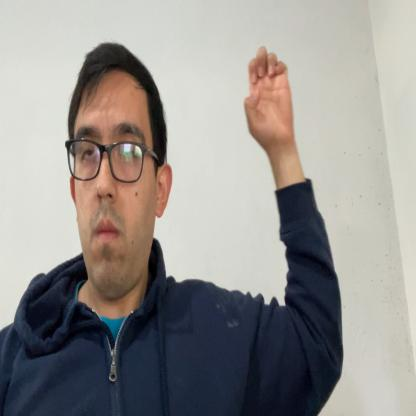E: (243, 44, 293, 145)
